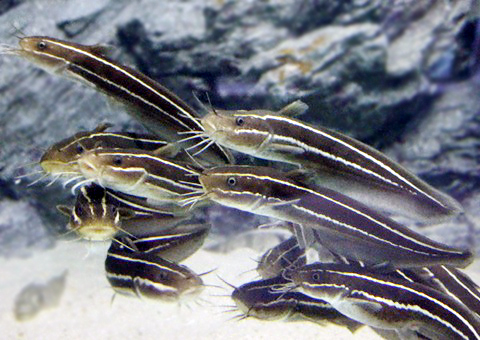gonzui: (201, 97, 477, 178)
